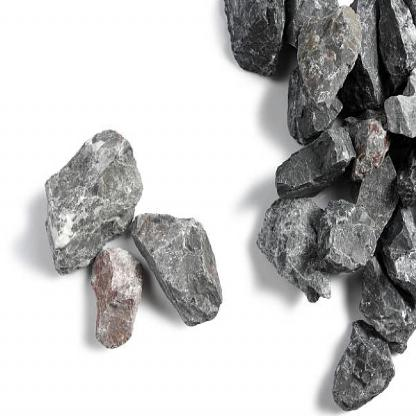Sedimentary_Limestone: (24, 135, 146, 279)
